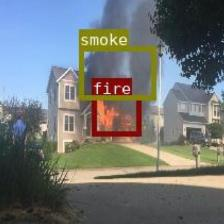fire: (91, 94, 140, 135)
smoke: (78, 45, 155, 99)
